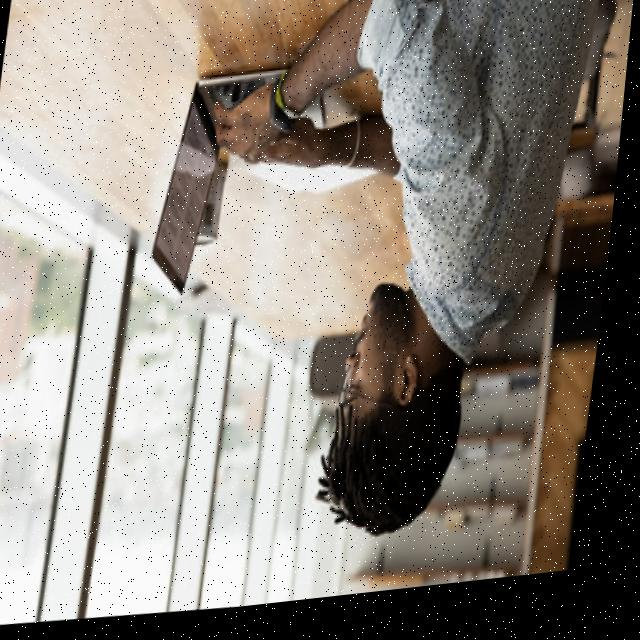notebook-person: (118, 0, 610, 589)
